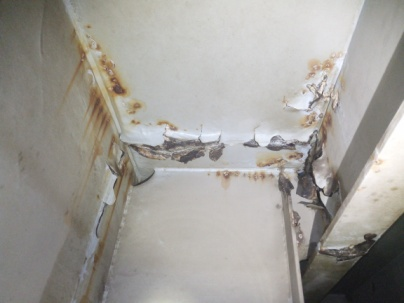corrosion: (65, 73, 119, 169), (114, 129, 228, 171), (93, 149, 122, 303), (280, 55, 342, 123), (291, 161, 336, 231), (308, 127, 349, 195), (87, 36, 130, 93), (314, 233, 384, 260), (240, 136, 321, 157), (119, 98, 155, 123), (161, 113, 187, 134)
